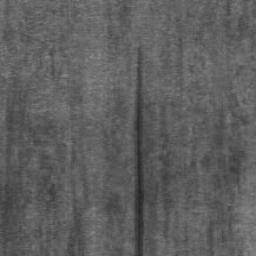Scratches: (134, 49, 144, 256)
